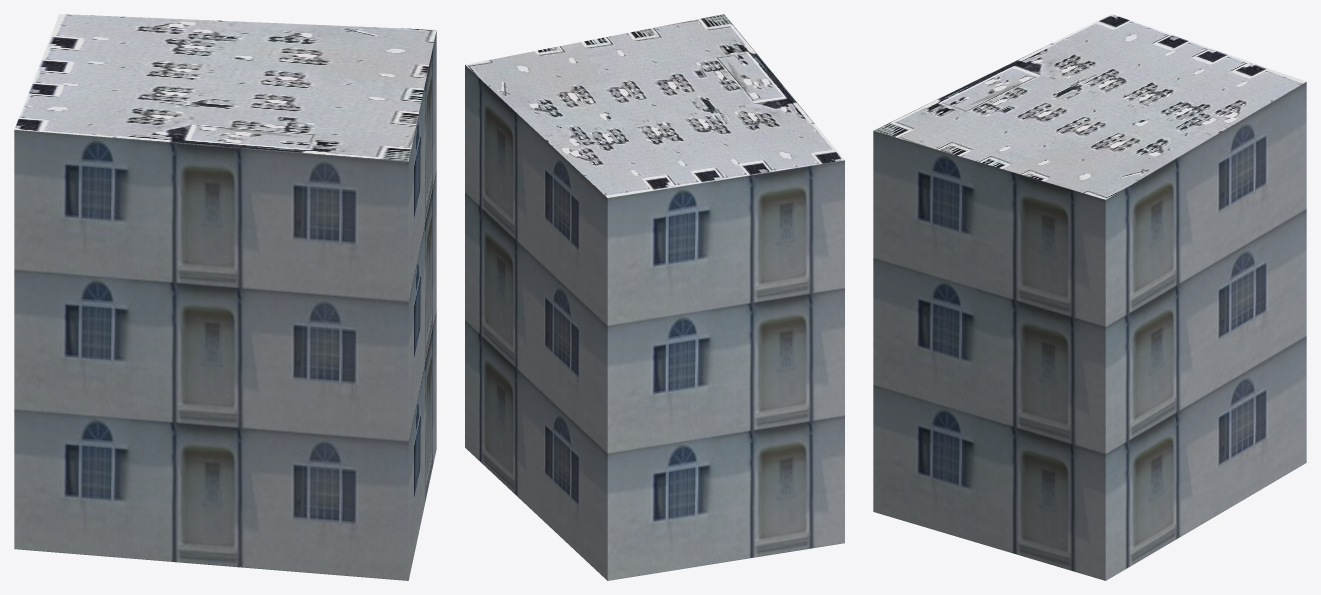
File: ResTex__2695.fbx
3 views of the same model, side by side, from view 1: azimuth 30°, elevation 25°; view 2: azimuth 150°, elevation 25°; view 3: azimuth 270°, elevation 25° (orthographic). The views are drawn at different scales.
Visible parts, largest first — view 1: CityEngineMaterial_17_m, CityEngineMaterial_8_m; view 2: CityEngineMaterial_17_m, CityEngineMaterial_8_m; view 3: CityEngineMaterial_17_m, CityEngineMaterial_8_m.
Part boxes in pixels (x1=…): CityEngineMaterial_17_m: x1=14, y1=31, x2=436, y2=580; CityEngineMaterial_8_m: x1=14, y1=14, x2=436, y2=161; CityEngineMaterial_17_m: x1=465, y1=65, x2=844, y2=580; CityEngineMaterial_8_m: x1=465, y1=14, x2=844, y2=197; CityEngineMaterial_17_m: x1=873, y1=82, x2=1306, y2=580; CityEngineMaterial_8_m: x1=873, y1=14, x2=1306, y2=199.
Bounding box in the file's own units: 9.41 × 9 × 9.28.
Materials: 2 (2 with a texture image).
